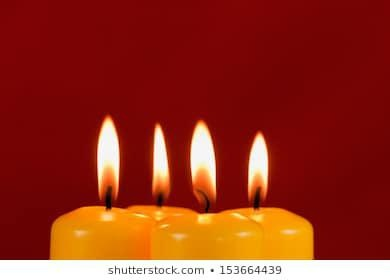fire: (188, 116, 218, 207), (94, 111, 121, 205), (245, 128, 269, 206), (149, 121, 169, 200)
